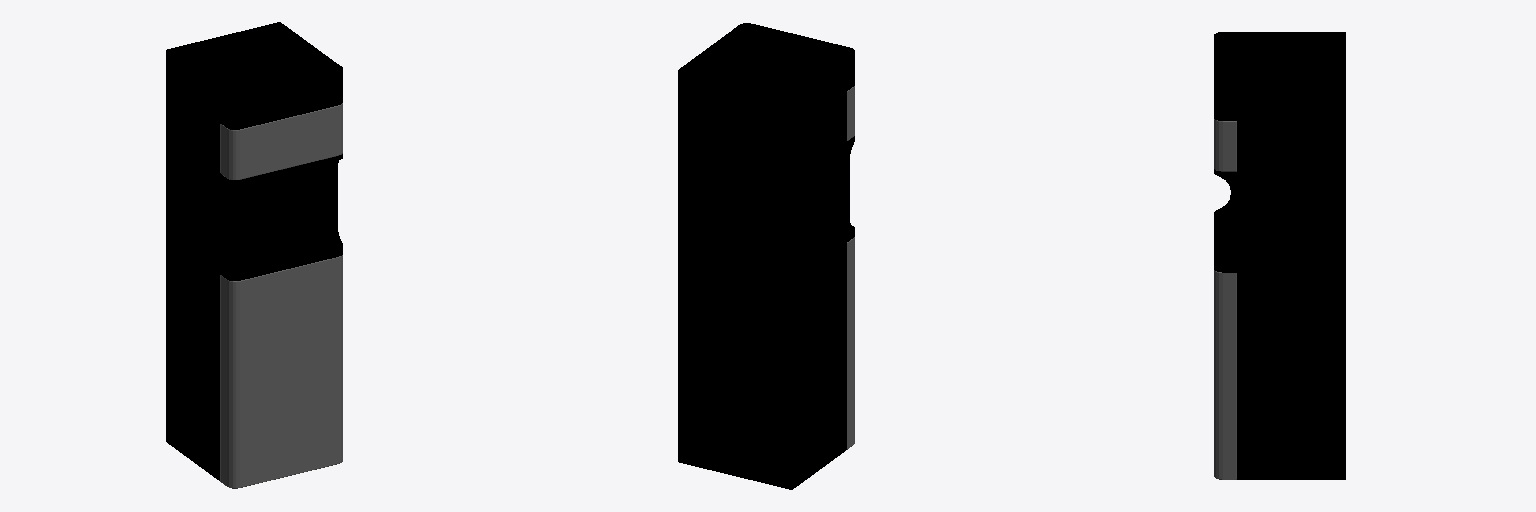
Rendered from dispenser.obj.
The picture shows the model from 3 angles: view 1: azimuth 30°, elevation 25°; view 2: azimuth 150°, elevation 25°; view 3: azimuth 270°, elevation 25°; orthographic projection.
Visible parts, largest first — view 1: Cube.001_Cube.002, Cube.003_Cube.004, Cube.002_Cube.003, Cube_Cube.001; view 2: Cube.003_Cube.004, Cube.001_Cube.002, Cube_Cube.001; view 3: Cube.003_Cube.004, Cube.001_Cube.002, Cube_Cube.001, Cube.002_Cube.003.
Boxes of the visible parts, box(x1,y1,x2,y2) form: Cube.001_Cube.002: box(220, 103, 342, 488); Cube.003_Cube.004: box(166, 22, 333, 480); Cube.002_Cube.003: box(220, 154, 342, 280); Cube_Cube.001: box(220, 62, 342, 129); Cube.003_Cube.004: box(678, 30, 846, 489); Cube.001_Cube.002: box(847, 86, 854, 449); Cube_Cube.001: box(733, 23, 854, 90); Cube.003_Cube.004: box(1237, 32, 1345, 479); Cube.001_Cube.002: box(1214, 119, 1236, 479); Cube_Cube.001: box(1214, 32, 1236, 120); Cube.002_Cube.003: box(1214, 169, 1236, 272).
Size of the model in its own units: 0.3331 by 1.09 by 0.3331.